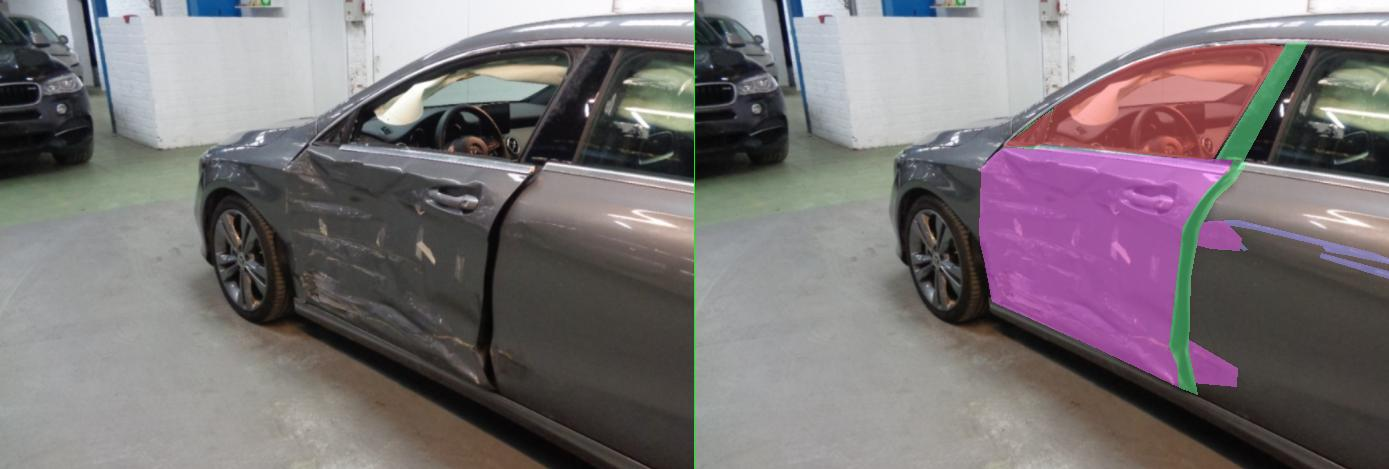Broken part: (949, 160, 1105, 394), (1043, 42, 1225, 160), (622, 108, 719, 149)
Dent: (568, 148, 1089, 392), (570, 226, 975, 388), (568, 148, 733, 198), (731, 159, 877, 214), (981, 340, 1085, 386), (590, 196, 757, 219), (999, 221, 1093, 250), (945, 185, 1017, 215), (907, 166, 971, 185)
Missing part: (697, 44, 1179, 160), (616, 111, 713, 146)
Scratch: (1027, 220, 1389, 263), (586, 229, 801, 262), (600, 268, 725, 318), (614, 248, 779, 281), (570, 188, 741, 217), (1251, 253, 1389, 278), (819, 290, 891, 324), (825, 333, 947, 352), (735, 316, 815, 339), (1011, 231, 1105, 250), (939, 198, 997, 219), (983, 349, 1031, 361), (658, 169, 699, 180), (937, 368, 961, 384), (825, 266, 851, 276), (624, 185, 658, 190)
